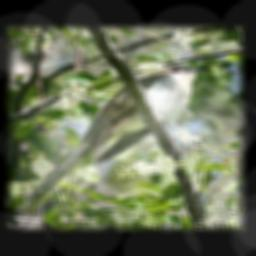Cuckoo: (20, 63, 211, 209)
